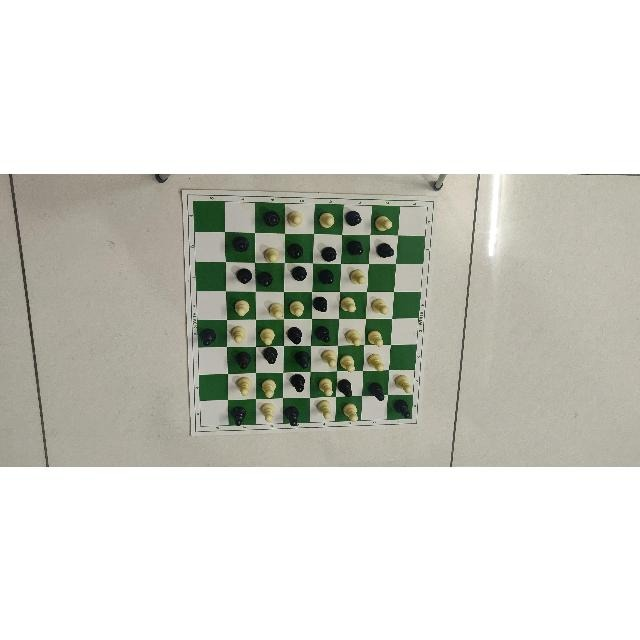black-pawn: (233, 350, 252, 370), (393, 399, 410, 419), (367, 382, 384, 402), (229, 405, 246, 425), (314, 325, 331, 343), (286, 326, 303, 344), (337, 377, 353, 396), (290, 372, 305, 392), (284, 405, 299, 425), (256, 270, 273, 287), (347, 237, 364, 254), (287, 242, 305, 258), (263, 210, 281, 226), (294, 349, 309, 368), (232, 235, 249, 251), (345, 209, 362, 225), (313, 294, 329, 311), (376, 242, 394, 257), (262, 346, 277, 364), (291, 264, 308, 279), (317, 268, 334, 283), (236, 267, 252, 282), (320, 246, 337, 260)
white-pawn: (394, 375, 412, 393), (345, 327, 362, 346), (260, 378, 276, 398), (236, 376, 252, 396), (371, 297, 389, 314), (339, 354, 356, 372), (367, 353, 384, 371), (231, 325, 247, 344), (321, 348, 337, 367), (261, 402, 276, 422), (343, 402, 358, 422), (317, 399, 332, 419), (339, 295, 356, 312), (375, 214, 393, 230), (269, 300, 285, 318), (234, 299, 250, 317), (260, 327, 276, 345), (318, 377, 333, 396), (286, 210, 303, 226), (263, 247, 280, 263), (349, 268, 366, 284), (368, 329, 384, 346), (319, 211, 335, 227), (289, 299, 304, 316)
